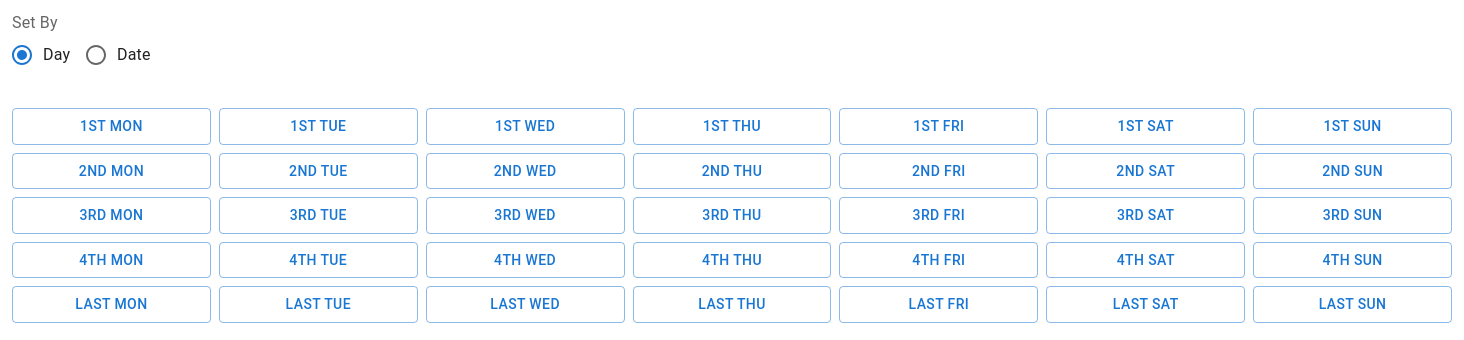
Test: MonthlyOccurrenceSelector › switches to date grid when Date radio is selected
The image size is (1464, 340).
Click the radio button labelled "Date": (117, 55) [84,43,151,67]
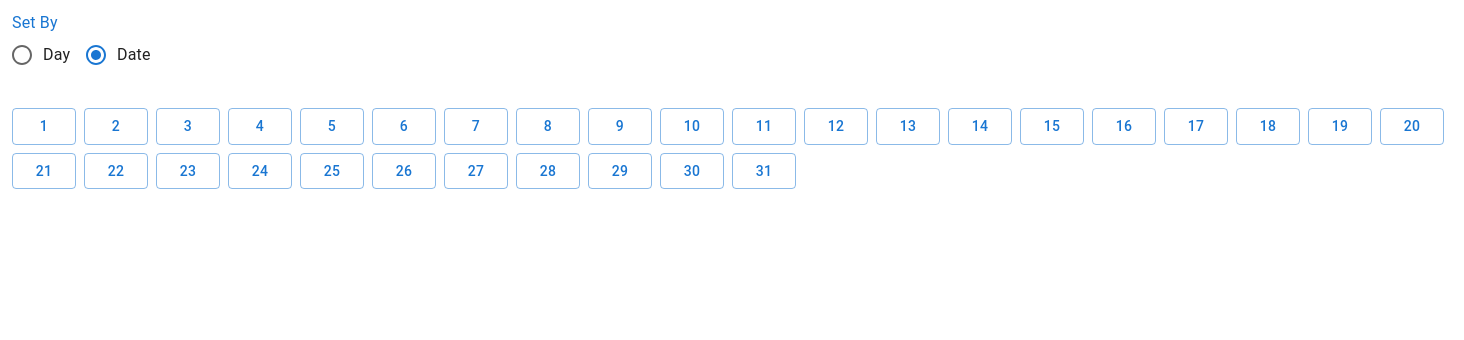
Check: the button "1" is shown, box [12,108,76,144]
Check: the button "15" is shown, box [1020,108,1084,144]
Check: the button "31" is shown, box [732,152,796,189]
